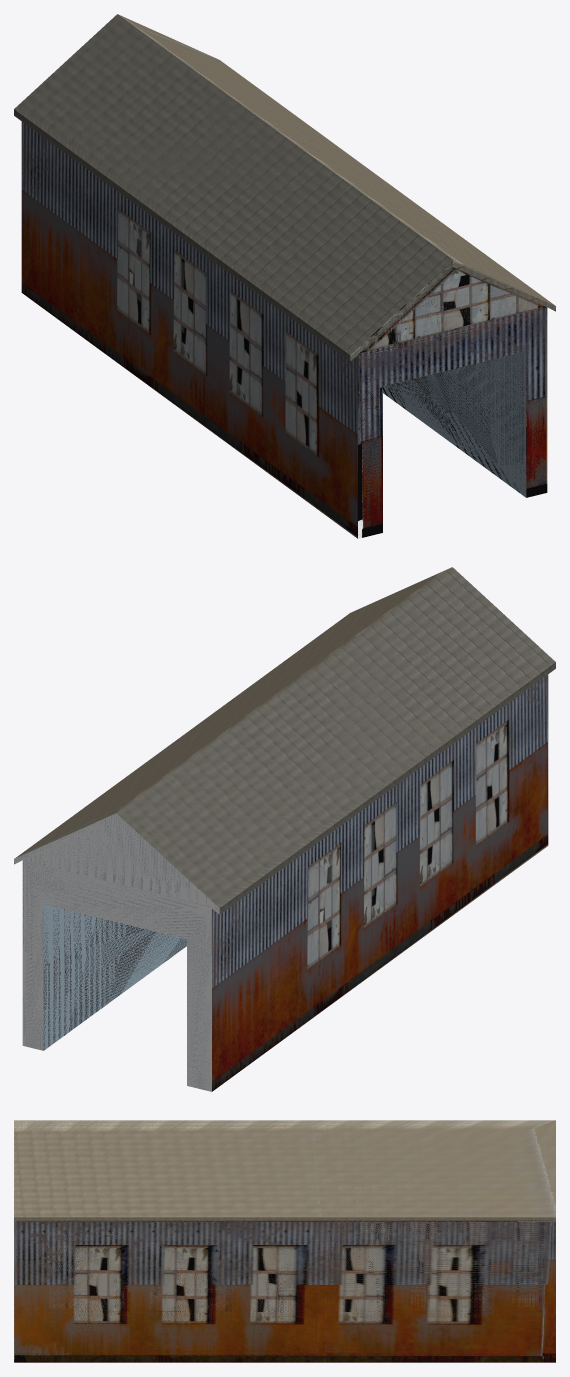
Rendered from Red&Blue Warehouse.fbx.
3 views of the same model, one above another, from view 1: azimuth 30°, elevation 25°; view 2: azimuth 150°, elevation 25°; view 3: azimuth 270°, elevation 25° (orthographic). The views are drawn at different scales.
Parts seen in each view (by area): view 1: Model; view 2: Model; view 3: Model.
Boxes of the visible parts, box(x1,y1,x2,y2) form: Model: box(14, 14, 555, 538); Model: box(14, 567, 555, 1091); Model: box(14, 1120, 555, 1362).
Bounding box in the file's own units: 172 × 204 × 487.
